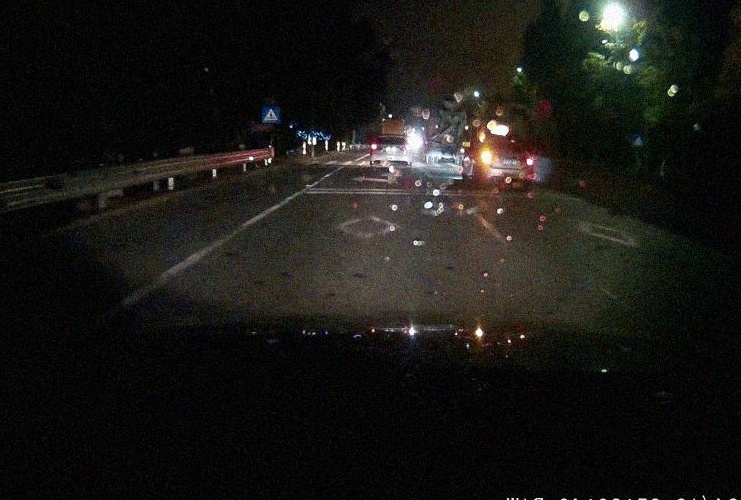L_light: (481, 151, 492, 165), (370, 143, 377, 150)
R_light: (526, 155, 534, 167), (404, 144, 411, 151)
T_light: (500, 140, 512, 144), (384, 135, 394, 138)
night-left: (477, 138, 536, 190)
night-no: (369, 134, 413, 171)
